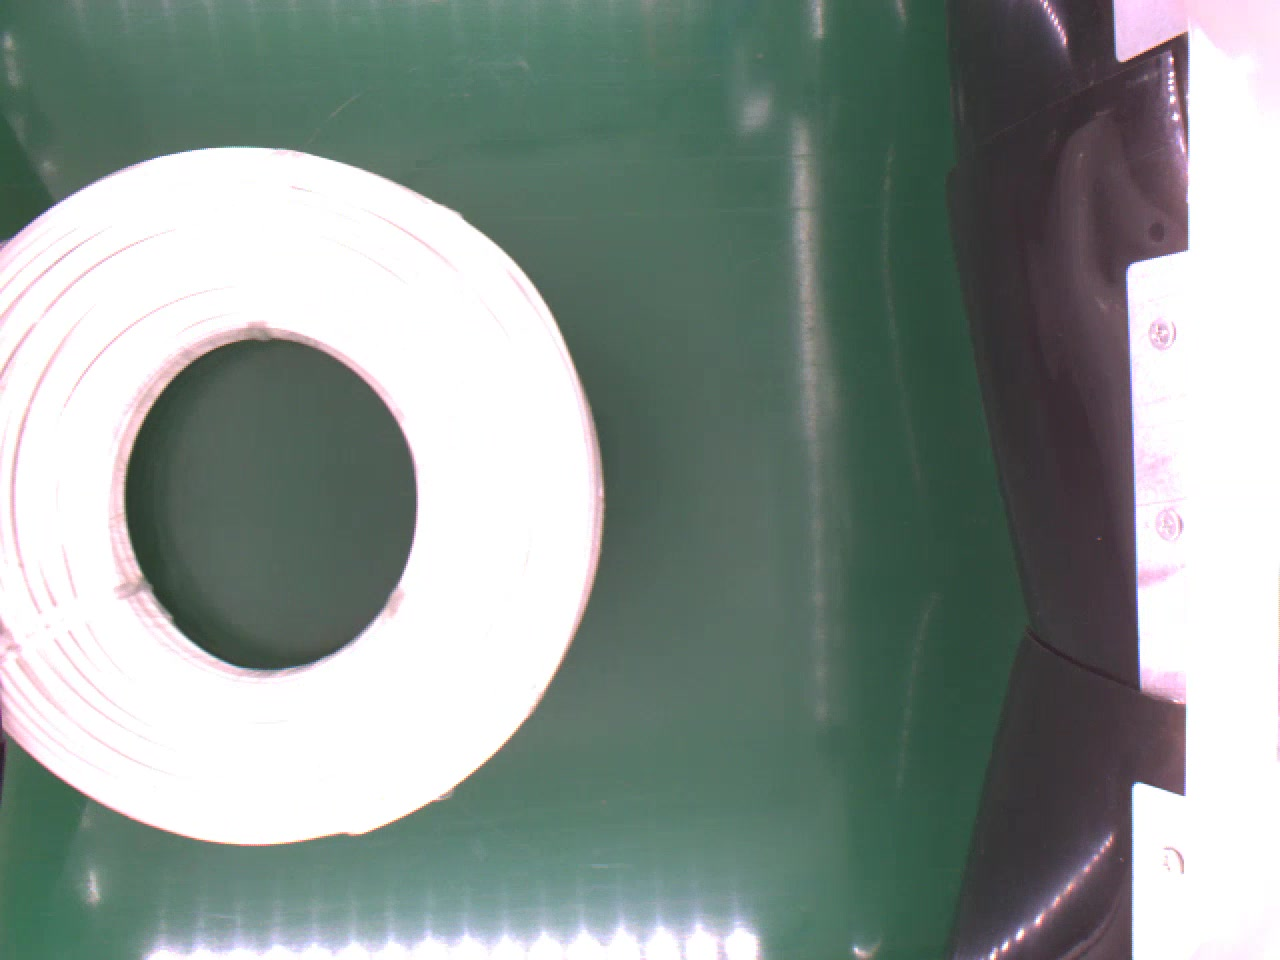white: (0, 139, 609, 850)
